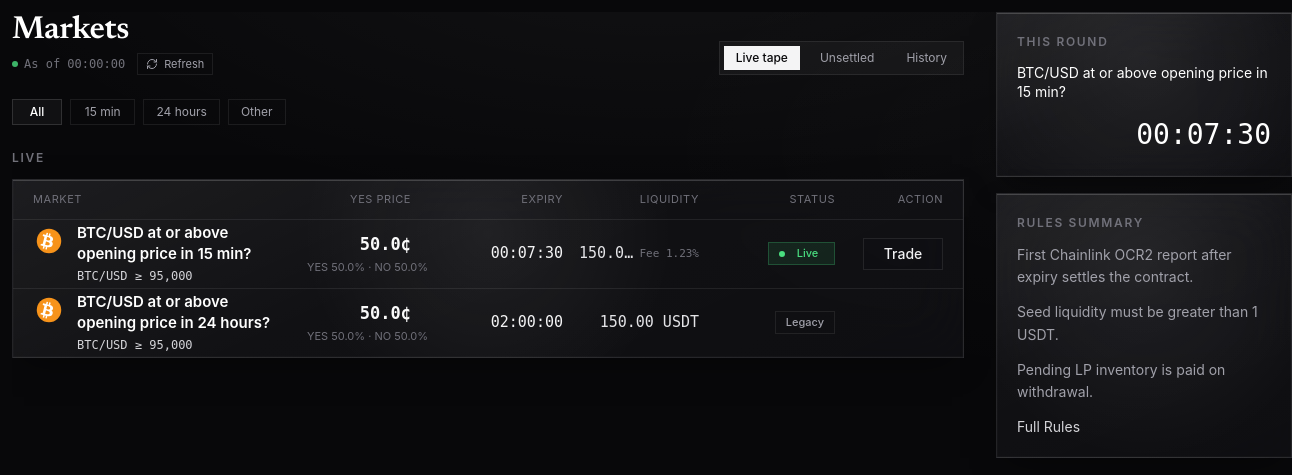
it: MarketsPage duration filter chips › renders live fee rate only on non-legacy live rows and hides it on legacy live and history rows
Check: the number of elements with test id "market-row-fee" is 1, box [637,246,699,263]
Check: the element with test id "market-row-fee" reads "Fee 1.23%", box [639,247,699,260]
Note: History tape: resolved row does not show fee rate
Click the button "History" at (927, 58), box [894,46,959,70]
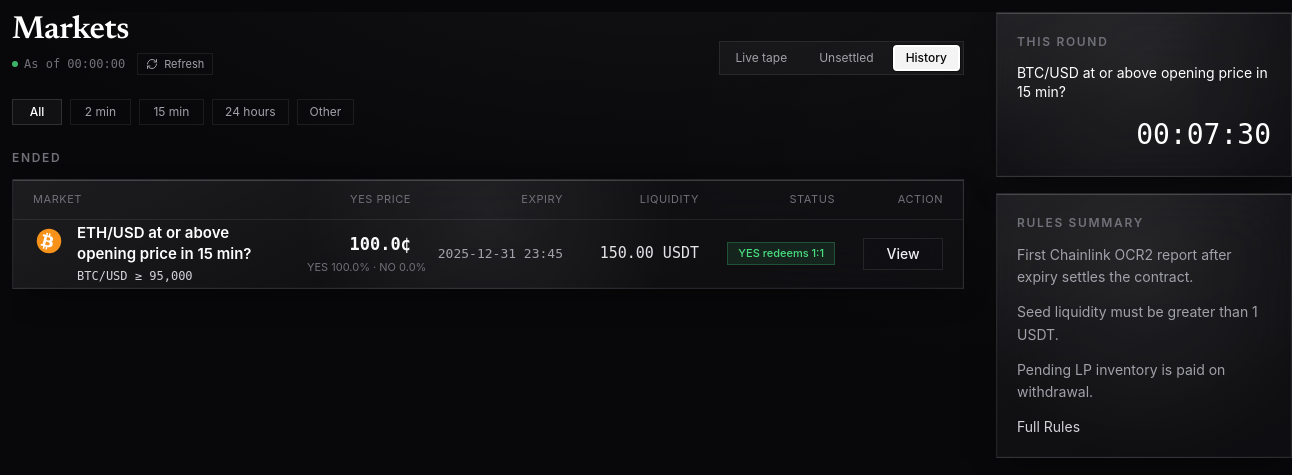
Check: the element with test id "market-row-fee" is gone
